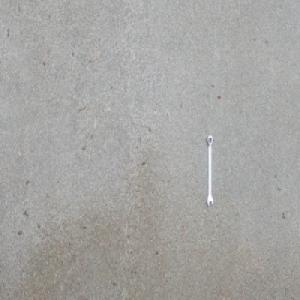Wrench: (206, 134, 213, 209)
